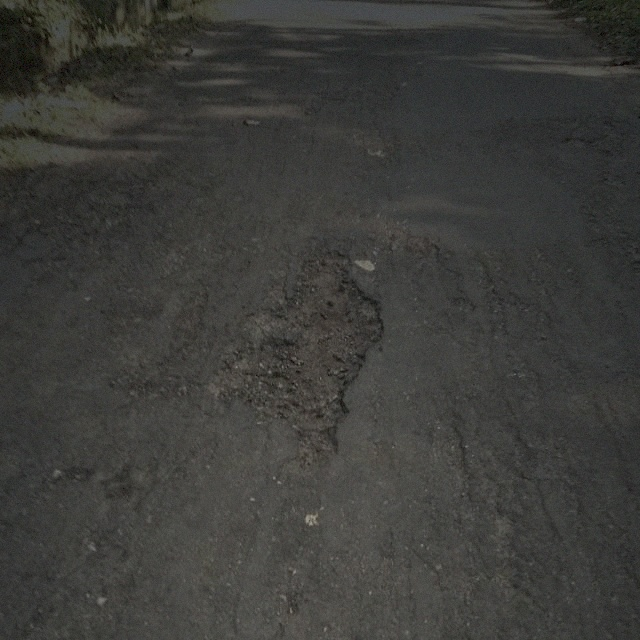pothole: (208, 235, 390, 470)
